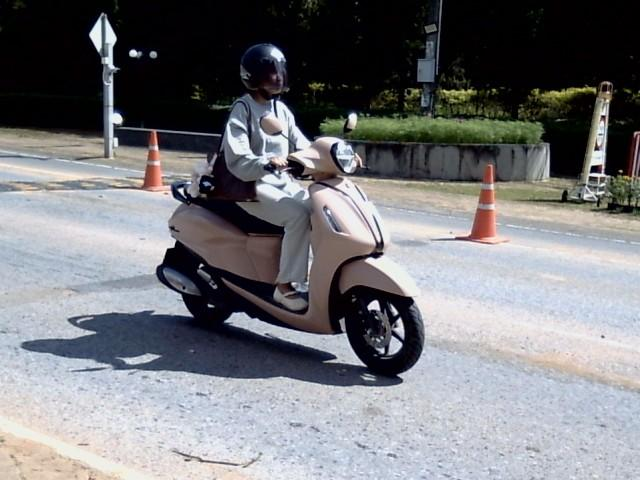helmet: (236, 35, 292, 99)
motor: (156, 137, 423, 375)
person: (221, 43, 310, 309)
